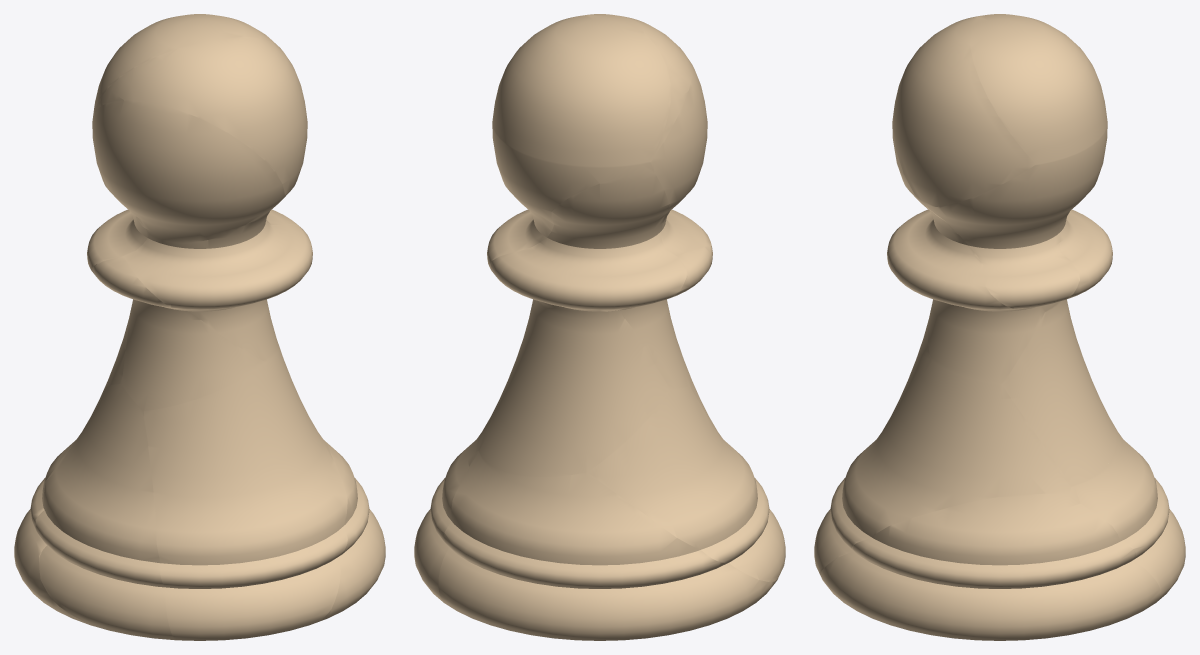
The model's file is pawn.glb.
3 renders of one model, left to right at view 1: azimuth 30°, elevation 25°; view 2: azimuth 150°, elevation 25°; view 3: azimuth 270°, elevation 25°, orthographic.
Visible parts, largest first — view 1: chunk-03, chunk-02, chunk-09, chunk-10, chunk-06, chunk-05, chunk-00, chunk-11, chunk-01, chunk-07, chunk-04; view 2: chunk-01, chunk-04, chunk-11, chunk-02, chunk-07, chunk-08, chunk-09, chunk-05, chunk-00, chunk-10, chunk-06, chunk-03; view 3: chunk-00, chunk-03, chunk-10, chunk-08, chunk-11, chunk-06, chunk-04, chunk-01, chunk-07.
Boxes of the visible parts, left/top/right/bottom form: chunk-03: left=143, top=345, right=347, bottom=640; chunk-02: left=35, top=384, right=174, bottom=640; chunk-09: left=92, top=100, right=285, bottom=242; chunk-10: left=93, top=36, right=307, bottom=197; chunk-06: left=123, top=206, right=312, bottom=361; chunk-05: left=91, top=256, right=265, bottom=410; chunk-00: left=320, top=438, right=385, bottom=621; chunk-11: left=93, top=14, right=279, bottom=113; chunk-01: left=14, top=440, right=97, bottom=627; chunk-07: left=87, top=136, right=149, bottom=269; chunk-04: left=104, top=302, right=132, bottom=387; chunk-01: left=438, top=450, right=777, bottom=640; chunk-04: left=479, top=300, right=670, bottom=476; chunk-11: left=492, top=15, right=670, bottom=166; chunk-02: left=588, top=386, right=785, bottom=581; chunk-07: left=489, top=173, right=686, bottom=312; chunk-08: left=487, top=122, right=654, bottom=266; chunk-09: left=651, top=62, right=707, bottom=224; chunk-05: left=620, top=246, right=712, bottom=389; chunk-00: left=414, top=432, right=481, bottom=603; chunk-10: left=567, top=14, right=691, bottom=161; chunk-06: left=517, top=209, right=711, bottom=311; chunk-03: left=474, top=370, right=760, bottom=484; chunk-00: left=820, top=493, right=1161, bottom=640; chunk-03: left=814, top=350, right=1071, bottom=573; chunk-10: left=893, top=16, right=1035, bottom=206; chunk-08: left=925, top=121, right=1107, bottom=308; chunk-11: left=970, top=14, right=1107, bottom=164; chunk-06: left=887, top=207, right=1045, bottom=384; chunk-04: left=1002, top=299, right=1116, bottom=485; chunk-01: left=1069, top=419, right=1185, bottom=600; chunk-07: left=1041, top=209, right=1112, bottom=310.
Size of the model in its own units: 0.52 by 0.83 by 0.52.
